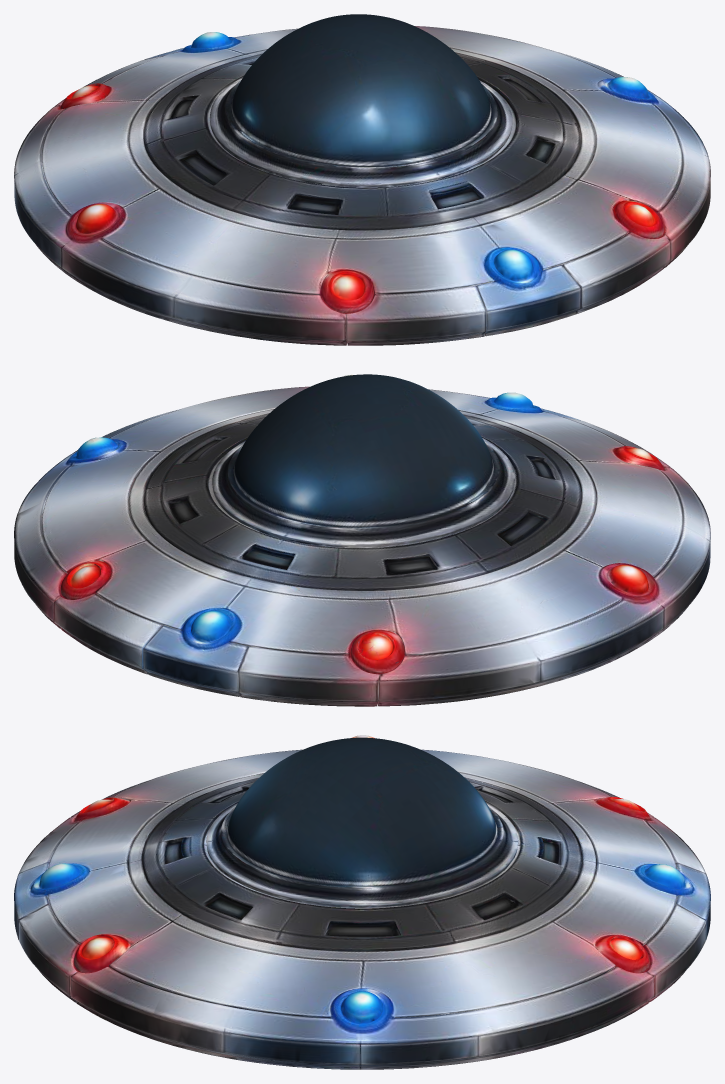
The model's file is ovni.glb.
3 renders of one model, top to bottom at view 1: azimuth 30°, elevation 25°; view 2: azimuth 150°, elevation 25°; view 3: azimuth 270°, elevation 25°, orthographic.
Parts seen in each view (by area): view 1: node_0; view 2: node_0; view 3: node_0.
Part boxes in pixels (left/top/right/bottom): node_0: left=14, top=14, right=710, bottom=345; node_0: left=14, top=374, right=710, bottom=706; node_0: left=14, top=735, right=710, bottom=1069.
Size of the model in its own units: 1.18 by 0.4319 by 1.18.
1 material, 1 textured.
